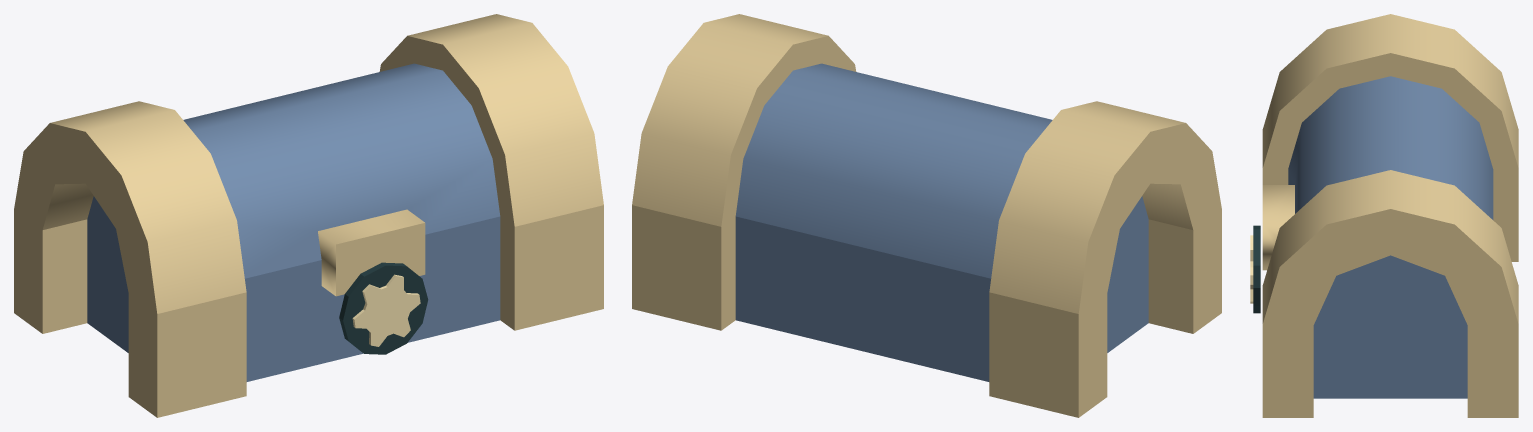
File: strategy.glb
3 views of the same model, side by side, from view 1: azimuth 30°, elevation 25°; view 2: azimuth 150°, elevation 25°; view 3: azimuth 270°, elevation 25° (orthographic). The views are drawn at different scales.
Parts seen in each view (by area): view 1: lid, chest, category badge, emblem; view 2: lid, chest; view 3: lid, chest, category badge, emblem.
Part boxes in pixels (<box>): lid: <box>14,14,603,313</box>; chest: <box>14,205,603,417</box>; category badge: <box>339,262,428,354</box>; emblem: <box>352,274,420,346</box>; lid: <box>632,14,1221,313</box>; chest: <box>632,205,1221,417</box>; lid: <box>1262,14,1518,324</box>; chest: <box>1262,169,1518,417</box>; category badge: <box>1253,225,1260,313</box>; emblem: <box>1250,235,1253,303</box>.
Bounding box in the file's own units: 2.29 × 1.15 × 1.34.
